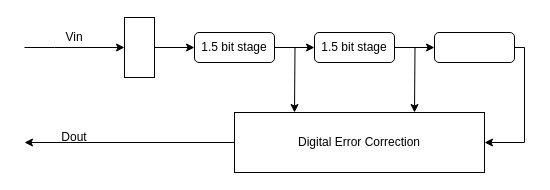
Some shapes in this 550 by 190 pixel diagram are drawn without their labels. Here are the shapes that lost their labels. From the top down, the box of each, then its label:
(124, 16, 154, 78): S/H
(434, 32, 514, 62): 2 bit flash
